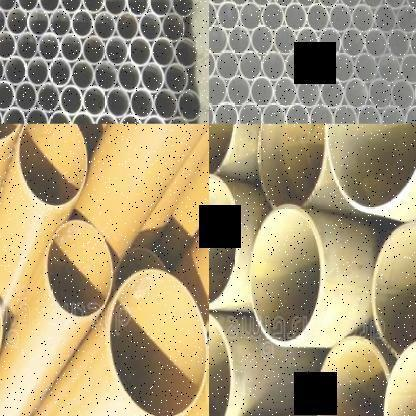pipe: (109, 268, 207, 416), (250, 204, 324, 346), (324, 124, 416, 213), (46, 220, 113, 318), (372, 220, 416, 359), (316, 335, 390, 416), (256, 124, 326, 209), (18, 124, 88, 208), (209, 174, 239, 309), (382, 337, 416, 416), (209, 310, 234, 416), (209, 124, 237, 180), (343, 78, 369, 109), (273, 76, 298, 108), (48, 58, 73, 89), (320, 78, 345, 109), (60, 85, 84, 117), (130, 88, 154, 120), (82, 86, 106, 118), (106, 87, 130, 119), (128, 36, 152, 68), (154, 89, 178, 121), (178, 90, 202, 122), (262, 50, 286, 82), (250, 76, 274, 108), (354, 52, 378, 84), (391, 79, 415, 111), (368, 78, 392, 110), (297, 78, 322, 108), (37, 83, 61, 114), (164, 63, 188, 94), (71, 60, 95, 91), (94, 61, 118, 92), (117, 62, 141, 93), (82, 35, 106, 66), (152, 37, 176, 68), (238, 50, 262, 81), (284, 51, 308, 82), (226, 76, 250, 107), (308, 52, 332, 83), (377, 53, 401, 84), (26, 57, 50, 87), (105, 36, 129, 66), (140, 63, 164, 93), (161, 13, 185, 43), (216, 50, 240, 80), (318, 28, 342, 58), (273, 26, 297, 56), (296, 27, 320, 57), (330, 52, 354, 82), (250, 26, 274, 56), (227, 26, 251, 56), (341, 28, 365, 58), (351, 4, 375, 34), (364, 28, 388, 58), (174, 39, 198, 68), (216, 1, 240, 30), (386, 29, 410, 58), (306, 3, 330, 32), (15, 82, 38, 112), (71, 10, 94, 40), (4, 56, 27, 86), (93, 11, 116, 41), (116, 12, 139, 42), (329, 3, 352, 33), (374, 4, 397, 34), (261, 2, 285, 30), (238, 2, 262, 30), (139, 13, 162, 42), (49, 9, 72, 38), (60, 34, 82, 64), (38, 33, 60, 63), (28, 8, 50, 38), (16, 32, 38, 62), (284, 3, 307, 31), (395, 6, 416, 35), (0, 124, 25, 148), (6, 9, 28, 36), (209, 75, 227, 106), (209, 25, 228, 54), (237, 102, 262, 124), (261, 102, 286, 124), (214, 102, 238, 124), (399, 53, 416, 84), (309, 103, 334, 124), (285, 103, 310, 124), (333, 104, 358, 124), (356, 104, 381, 124), (380, 105, 405, 124), (0, 80, 15, 111), (0, 31, 16, 60), (170, 0, 194, 18), (148, 0, 172, 18), (2, 107, 26, 124), (126, 0, 149, 17), (104, 0, 126, 17), (25, 108, 48, 124), (82, 0, 104, 16), (59, 0, 82, 15), (48, 110, 71, 124), (38, 0, 60, 14), (70, 112, 94, 124), (94, 113, 118, 124), (16, 0, 38, 12), (118, 114, 142, 124), (142, 115, 168, 124), (209, 0, 217, 29), (408, 29, 416, 58), (404, 105, 416, 123), (209, 50, 216, 80), (166, 116, 192, 124), (361, 0, 384, 9), (382, 0, 405, 9), (0, 0, 17, 12), (294, 0, 317, 8), (339, 0, 362, 8), (0, 7, 6, 36), (316, 0, 339, 7), (272, 0, 294, 7), (0, 55, 5, 85), (250, 0, 274, 6), (228, 0, 250, 6), (209, 0, 229, 6), (404, 0, 416, 10), (413, 78, 416, 110), (0, 106, 3, 124)
